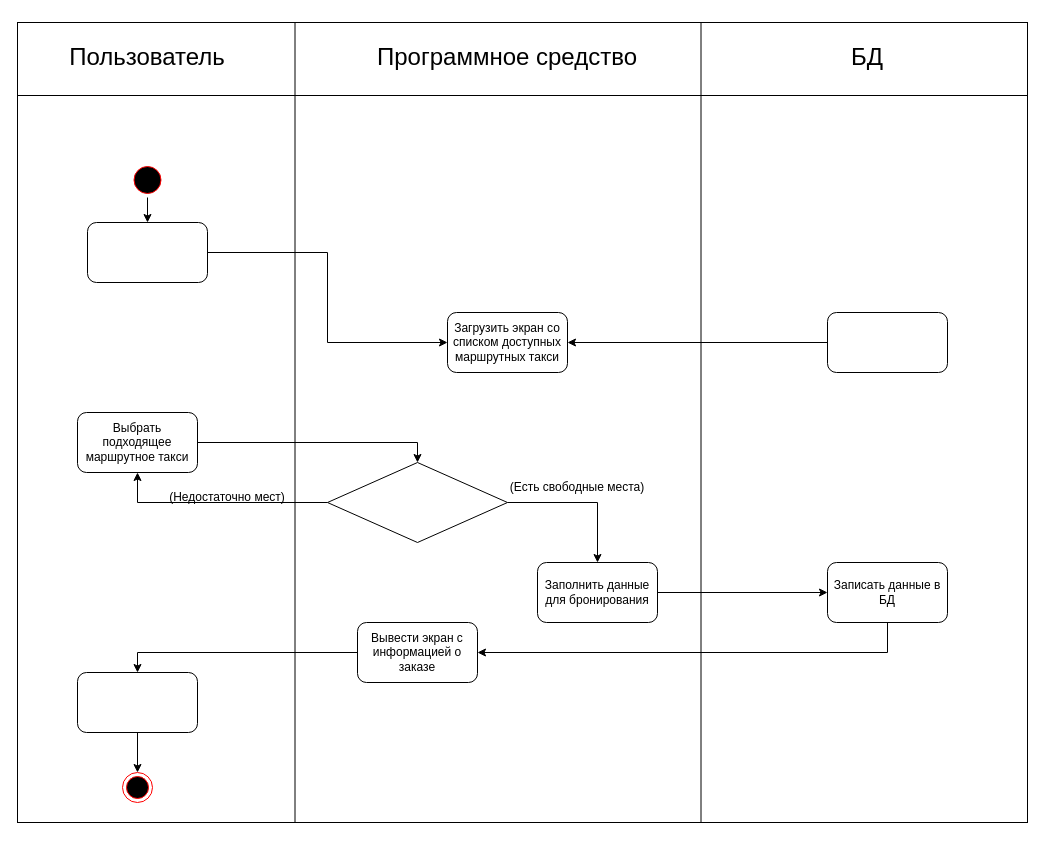
Image size: 1055x841. Some labels were removed from this diagram. Here are the shapes that lost their labels. From the top down, the centre of each, then its label:
point (147, 252): Заполнить параметры для поиска маршрутного такси
point (887, 342): Выдать список доступных маршрутных такси
point (137, 702): Вернуться к экрану заполнения данных
